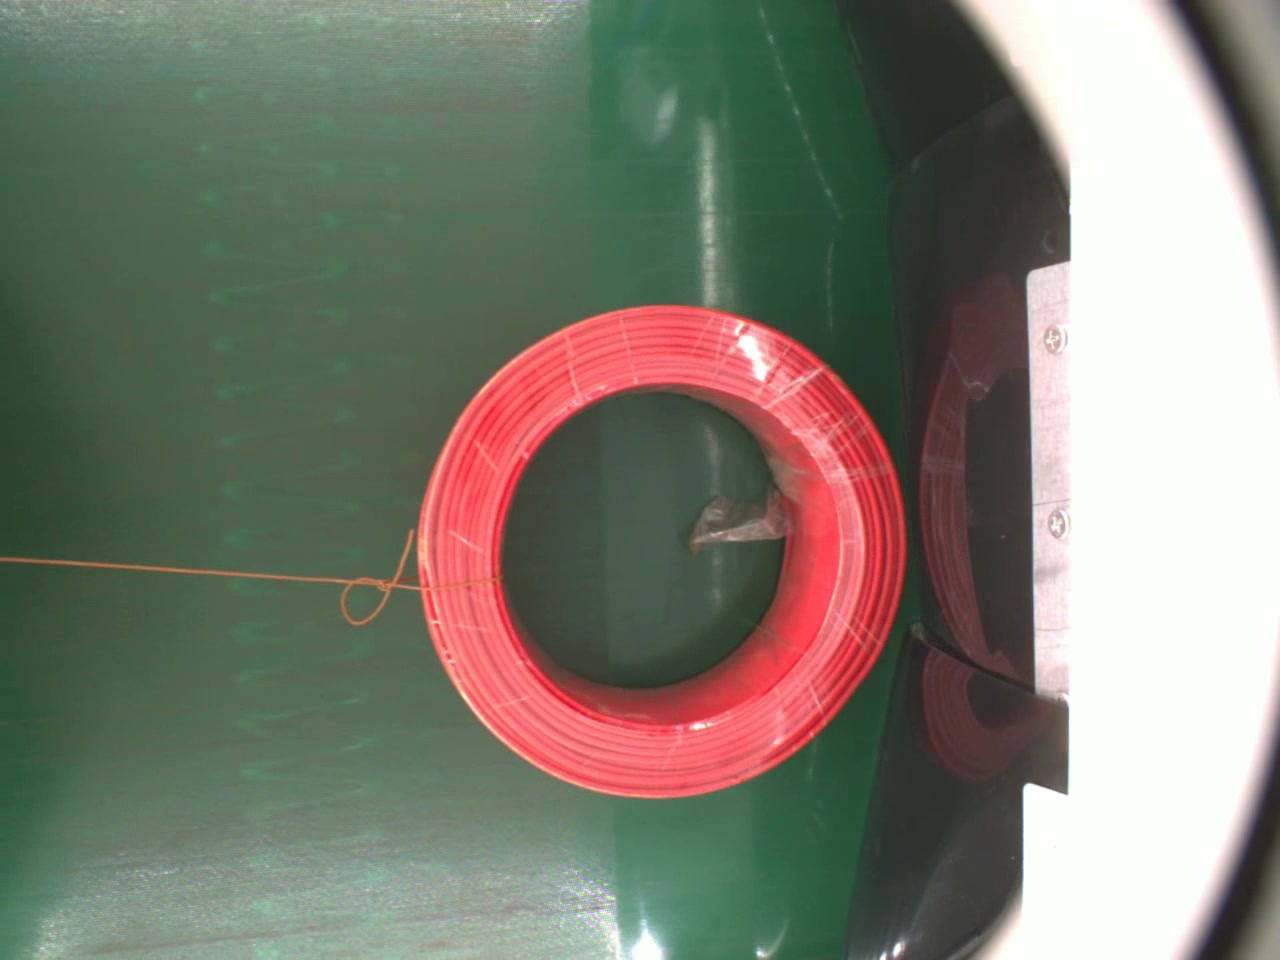red: (418, 299, 912, 804)
